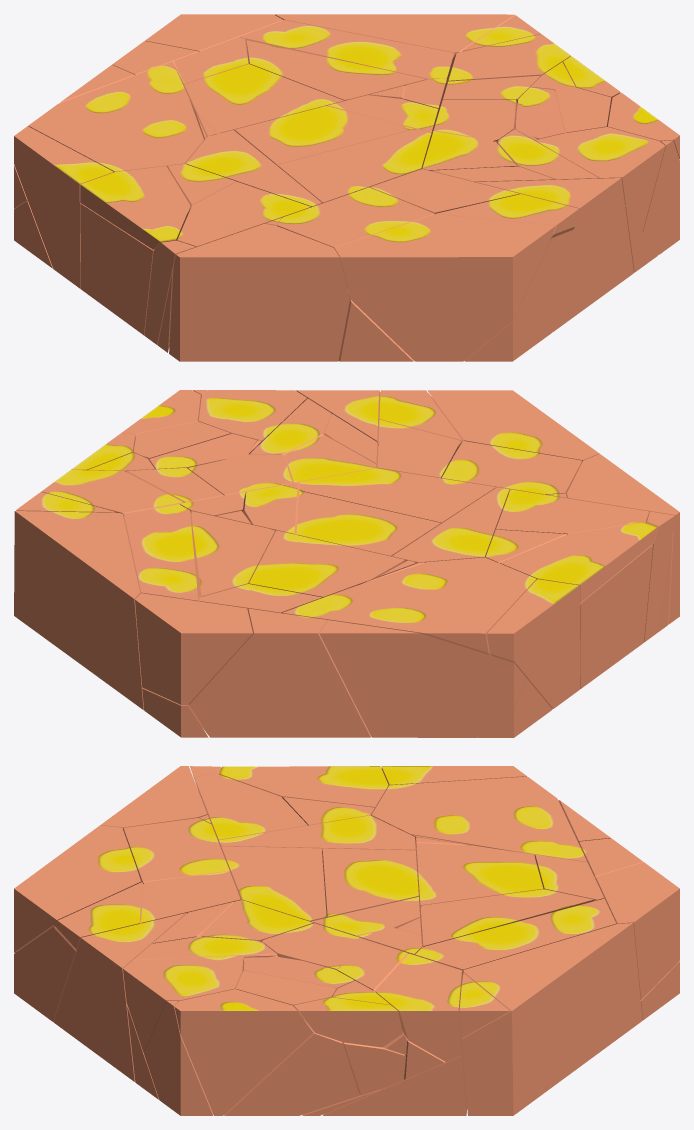
File: Hex60.fbx
3 renders of one model, top to bottom at view 1: azimuth 30°, elevation 25°; view 2: azimuth 150°, elevation 25°; view 3: azimuth 270°, elevation 25°, orthographic.
Visible parts, largest first — view 1: Hex1.001_cell.020_cell.005, Hex1.001_cell.020_cell.001, Hex1.001_cell.010_cell.007_cell.002, Hex1.001_cell.019_cell, Hex1.001_cell.010_cell.004, Hex1.001_cell.020_cell, Hex1.001_cell.010_cell.006_cell.007, Hex1.001_cell.010_cell.008_cell.002, Hex1.001_cell.010_cell.006_cell.002, Hex1.001_cell.010_cell.005_cell.002_cell.002_cell.001, Hex1.001_cell.010_cell.009, Hex1.001_cell.019_cell.007_cell.005_cell.001 (+31 smaller); view 2: Hex1.001_cell.014_cell.004, Hex1.001_cell.018_cell.015, Hex1.001_cell.018_cell.001, Hex1.001_cell.010_cell.007_cell.002, Hex1.001_cell.018_cell, Hex1.001_cell.010_cell.004, Hex1.001_cell.020_cell.005, Hex1.001_cell.010_cell.006_cell.007, Hex1.001_cell.010_cell.008_cell.002, Hex1.001_cell.010_cell.006_cell.002, Hex1.001_cell.010_cell.005_cell.002_cell.002_cell.001, Hex1.001_cell.010_cell.009 (+30 smaller); view 3: Hex1.001_cell.014_cell.004, Hex1.001_cell.010_cell.007_cell.002, Hex1.001_cell.019_cell.007_cell.005_cell, Hex1.001_cell.019_cell, Hex1.001_cell.020_cell.005, Hex1.001_cell.018_cell, Hex1.001_cell.019_cell.007_cell.005_cell.004, Hex1.001_cell.019_cell.007_cell.003, Hex1.001_cell.010_cell.008_cell.002, Hex1.001_cell.010_cell.005_cell.002_cell.002_cell.001, Hex1.001_cell.019_cell.007_cell.005_cell.001, Hex1.001_cell.010_cell.009 (+31 smaller).
Boxes of the visible parts, <box> form: Hex1.001_cell.020_cell.005: <box>334,214,555,361</box>; Hex1.001_cell.020_cell.001: <box>169,223,349,361</box>; Hex1.001_cell.010_cell.007_cell.002: <box>28,61,203,172</box>; Hex1.001_cell.019_cell: <box>476,178,633,332</box>; Hex1.001_cell.010_cell.004: <box>14,126,113,288</box>; Hex1.001_cell.020_cell: <box>276,187,434,361</box>; Hex1.001_cell.010_cell.006_cell.007: <box>80,203,154,335</box>; Hex1.001_cell.010_cell.008_cell.002: <box>184,64,343,133</box>; Hex1.001_cell.010_cell.006_cell.002: <box>80,166,190,249</box>; Hex1.001_cell.010_cell.005_cell.002_cell.002_cell.001: <box>277,129,431,203</box>; Hex1.001_cell.010_cell.009: <box>239,20,454,79</box>; Hex1.001_cell.019_cell.007_cell.005_cell.001: <box>535,127,665,230</box>; Hex1.001_cell.014_cell.004: <box>14,511,143,709</box>; Hex1.001_cell.018_cell.015: <box>319,620,526,737</box>; Hex1.001_cell.018_cell.001: <box>187,608,371,737</box>; Hex1.001_cell.010_cell.007_cell.002: <box>282,557,536,655</box>; Hex1.001_cell.018_cell: <box>135,593,252,704</box>; Hex1.001_cell.010_cell.004: <box>487,579,580,708</box>; Hex1.001_cell.020_cell.005: <box>427,390,599,461</box>; Hex1.001_cell.010_cell.006_cell.007: <box>580,544,652,688</box>; Hex1.001_cell.010_cell.008_cell.002: <box>249,530,404,597</box>; Hex1.001_cell.010_cell.006_cell.002: <box>499,522,657,602</box>; Hex1.001_cell.010_cell.005_cell.002_cell.002_cell.001: <box>299,468,495,523</box>; Hex1.001_cell.010_cell.009: <box>124,504,201,601</box>; Hex1.001_cell.014_cell.004: <box>461,923,642,1115</box>; Hex1.001_cell.010_cell.007_cell.002: <box>371,776,586,862</box>; Hex1.001_cell.019_cell.007_cell.005_cell: <box>174,989,312,1115</box>; Hex1.001_cell.019_cell: <box>53,913,186,1081</box>; Hex1.001_cell.020_cell.005: <box>14,825,140,952</box>; Hex1.001_cell.018_cell: <box>595,862,679,999</box>; Hex1.001_cell.019_cell.007_cell.005_cell.004: <box>223,1020,359,1115</box>; Hex1.001_cell.019_cell.007_cell.003: <box>375,953,462,1061</box>; Hex1.001_cell.010_cell.008_cell.002: <box>416,843,543,906</box>; Hex1.001_cell.010_cell.005_cell.002_cell.002_cell.001: <box>221,846,326,921</box>; Hex1.001_cell.019_cell.007_cell.005_cell.001: <box>123,955,244,1052</box>; Hex1.001_cell.010_cell.009: <box>415,898,616,974</box>.
Bounding box in the file's own units: 1 × 0.2003 × 1.15.
1 material, 1 textured.
